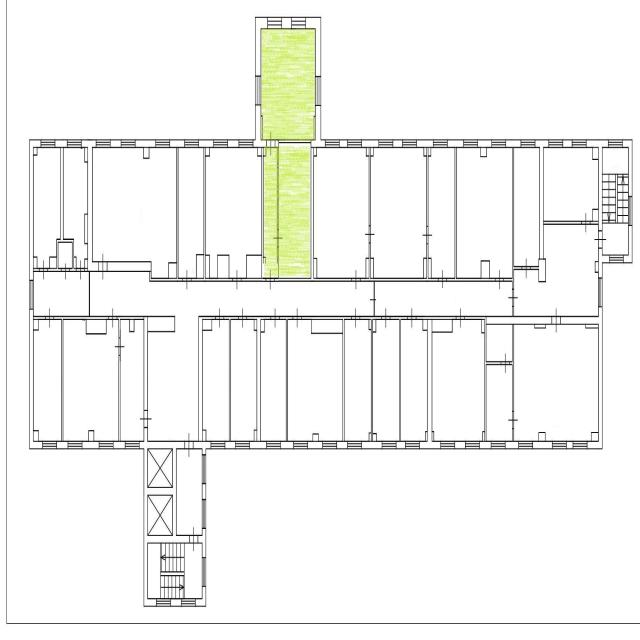Corridors: (90, 271, 373, 441), (514, 225, 598, 315), (375, 283, 512, 316), (121, 320, 144, 440), (34, 273, 89, 315), (177, 450, 201, 534), (264, 148, 277, 278), (487, 325, 512, 361), (59, 243, 72, 267)
Doors: (551, 307, 561, 334), (189, 526, 198, 553), (139, 410, 152, 428), (185, 432, 193, 461), (594, 231, 607, 248), (99, 253, 107, 280), (364, 225, 375, 244), (522, 257, 531, 280), (495, 268, 504, 291), (456, 307, 465, 330), (267, 131, 275, 156), (581, 212, 590, 234), (501, 352, 510, 374), (422, 226, 433, 244), (351, 269, 360, 291), (115, 337, 125, 356), (438, 268, 447, 289), (266, 270, 275, 291), (293, 308, 302, 329), (238, 307, 247, 328), (108, 307, 117, 328), (76, 260, 85, 281), (39, 259, 48, 280), (182, 269, 191, 290), (508, 289, 518, 307), (508, 411, 518, 429), (381, 308, 390, 328), (271, 308, 280, 328), (45, 308, 54, 328), (61, 261, 70, 281), (216, 307, 224, 329), (274, 229, 283, 248), (352, 307, 360, 328), (233, 269, 241, 290), (408, 308, 416, 328), (369, 298, 377, 302)
LBwalls: (139, 427, 190, 608), (561, 307, 603, 450), (144, 316, 175, 411), (420, 320, 441, 450), (193, 315, 211, 454), (81, 139, 99, 272), (250, 319, 266, 450), (586, 138, 608, 231), (29, 310, 43, 451), (535, 138, 549, 259), (29, 139, 41, 279), (306, 16, 322, 76), (255, 17, 267, 76), (311, 106, 326, 148), (486, 316, 552, 325), (623, 139, 633, 196), (254, 105, 267, 147), (107, 261, 151, 272), (311, 320, 343, 334), (135, 139, 155, 159), (311, 148, 314, 280), (60, 147, 64, 238), (246, 254, 261, 278), (86, 319, 107, 336), (172, 448, 176, 536), (82, 429, 98, 450), (598, 248, 609, 278), (624, 226, 632, 264), (217, 254, 229, 278), (199, 139, 214, 157), (433, 320, 453, 333), (198, 529, 206, 558), (196, 587, 206, 608), (196, 254, 204, 278), (538, 258, 546, 282), (362, 440, 382, 449), (481, 260, 490, 279), (533, 440, 552, 449), (361, 139, 378, 148), (168, 262, 177, 278), (447, 139, 463, 148), (170, 139, 185, 148), (506, 139, 521, 148), (417, 139, 433, 147), (113, 440, 125, 450), (308, 441, 323, 449), (55, 139, 68, 148), (478, 139, 491, 148), (505, 441, 519, 449), (110, 138, 121, 148), (336, 440, 347, 450), (281, 441, 294, 449), (455, 440, 465, 450), (203, 319, 212, 330), (228, 139, 239, 148), (49, 256, 57, 268), (206, 255, 210, 278), (57, 441, 68, 449), (480, 441, 491, 449), (314, 257, 318, 278), (365, 257, 369, 278), (423, 258, 427, 279), (428, 257, 432, 278), (592, 208, 598, 222), (225, 441, 235, 449), (396, 441, 406, 449), (171, 599, 181, 607), (480, 147, 487, 158), (563, 139, 572, 147), (593, 148, 599, 160), (591, 432, 599, 441), (339, 139, 347, 148), (33, 430, 39, 441), (129, 320, 134, 333), (202, 484, 206, 500), (394, 140, 402, 148), (371, 257, 374, 278), (312, 433, 319, 442), (595, 260, 599, 274), (34, 320, 39, 331), (539, 432, 545, 441), (586, 324, 599, 328), (257, 147, 262, 157), (261, 320, 265, 332), (567, 441, 573, 449), (534, 325, 546, 329), (33, 256, 37, 268), (261, 115, 263, 139), (314, 116, 316, 140), (33, 147, 38, 156), (203, 430, 207, 441), (423, 320, 427, 331), (481, 320, 484, 334), (373, 320, 376, 333), (373, 432, 377, 441), (254, 430, 257, 441), (254, 320, 257, 330), (264, 147, 267, 157), (432, 431, 435, 441), (275, 140, 279, 147), (428, 148, 431, 157), (314, 148, 317, 157), (366, 148, 369, 157), (371, 148, 374, 157), (423, 148, 426, 157), (369, 320, 371, 331), (483, 431, 485, 442), (74, 257, 76, 268), (425, 431, 427, 440), (369, 432, 371, 441)
Offices: (93, 148, 176, 277), (514, 324, 598, 440), (206, 148, 261, 278), (314, 148, 369, 278), (457, 148, 512, 278), (371, 148, 426, 277), (63, 321, 118, 441), (288, 320, 342, 441), (432, 321, 484, 441), (261, 29, 315, 140), (279, 143, 311, 277), (543, 148, 598, 221), (34, 320, 61, 440), (344, 321, 371, 440), (429, 149, 454, 277), (34, 148, 60, 268), (203, 320, 229, 440), (179, 148, 203, 277), (231, 321, 257, 440), (373, 321, 399, 440), (401, 321, 427, 440), (261, 320, 286, 441), (514, 148, 539, 265), (63, 148, 87, 267), (487, 366, 512, 440)
Stairs: (148, 544, 202, 598), (602, 148, 628, 254)
Walls: (54, 315, 109, 441), (447, 148, 495, 282), (301, 316, 352, 441), (191, 148, 233, 282), (149, 148, 183, 282), (465, 315, 501, 441), (241, 147, 266, 282), (360, 243, 438, 282), (360, 316, 382, 441), (504, 147, 522, 289), (391, 315, 408, 441), (224, 315, 238, 441), (280, 315, 293, 441), (274, 247, 311, 282), (48, 238, 76, 272), (117, 315, 144, 337), (509, 324, 514, 412), (119, 356, 121, 441), (277, 147, 279, 230), (311, 278, 352, 282), (369, 147, 371, 227), (416, 316, 456, 320), (544, 221, 581, 225), (279, 139, 311, 143), (247, 316, 271, 320), (427, 147, 428, 226), (530, 265, 539, 270), (89, 272, 90, 315), (203, 316, 215, 319), (34, 316, 45, 319), (590, 221, 598, 225), (33, 268, 39, 272), (512, 429, 514, 441), (512, 306, 514, 317), (374, 301, 374, 316), (374, 282, 374, 300)
Windows: (267, 16, 282, 29), (255, 75, 261, 105), (291, 17, 306, 29), (315, 76, 321, 105), (491, 139, 506, 149), (609, 254, 624, 264), (293, 440, 308, 450), (201, 557, 206, 587), (68, 440, 83, 450), (99, 440, 114, 450), (211, 440, 225, 450), (155, 139, 170, 148), (184, 139, 199, 148), (213, 139, 228, 148), (347, 139, 362, 148), (402, 139, 417, 148), (433, 139, 448, 148), (463, 139, 478, 148), (608, 139, 623, 148), (573, 440, 588, 449), (552, 441, 567, 450), (518, 440, 533, 449), (465, 441, 480, 450), (440, 440, 455, 449), (405, 440, 420, 449), (347, 440, 362, 449), (322, 441, 337, 450), (266, 440, 281, 449), (235, 440, 250, 449), (181, 598, 196, 607), (42, 440, 57, 449), (125, 440, 140, 449), (41, 139, 55, 148), (67, 139, 81, 148), (96, 139, 110, 148), (121, 139, 135, 148), (239, 139, 253, 148), (521, 139, 535, 148), (549, 139, 563, 148), (572, 139, 586, 148), (491, 441, 505, 450), (382, 440, 396, 449), (156, 598, 170, 607), (598, 277, 602, 308), (325, 140, 340, 148), (378, 139, 393, 147), (628, 196, 632, 226), (202, 454, 206, 484), (202, 499, 206, 529), (29, 280, 33, 309)
